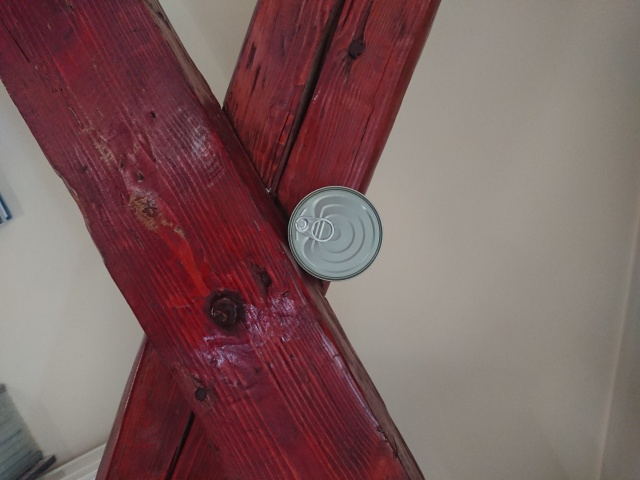Giana Tuna Salad Mexico 185g: (284, 182, 386, 284)
